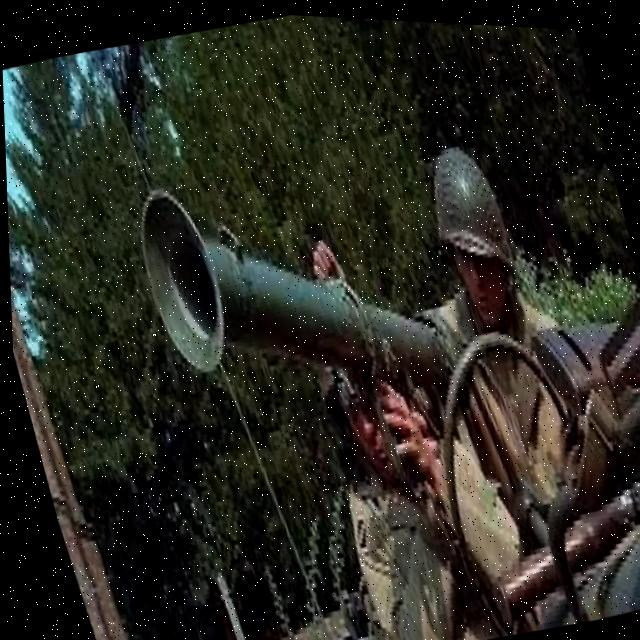rocket: (108, 105, 463, 457)
